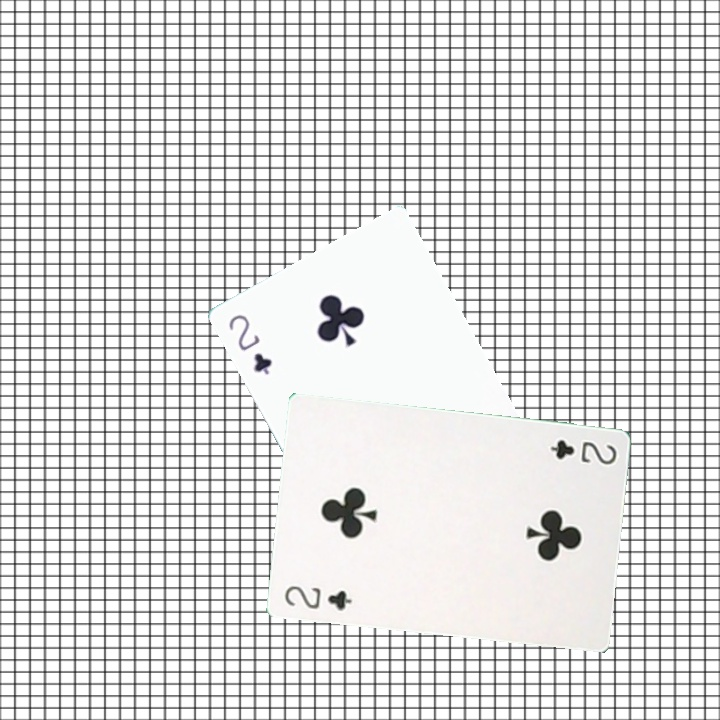2c: (224, 310, 275, 378), (280, 581, 355, 614), (546, 436, 619, 467)
